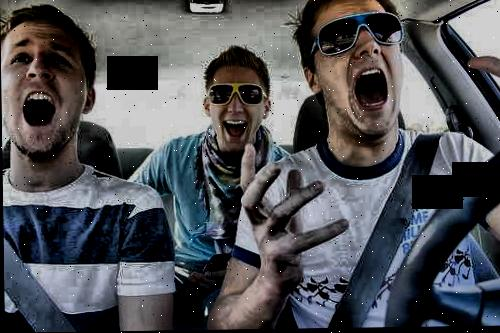seatbelt: (328, 126, 438, 314), (9, 238, 75, 330)
